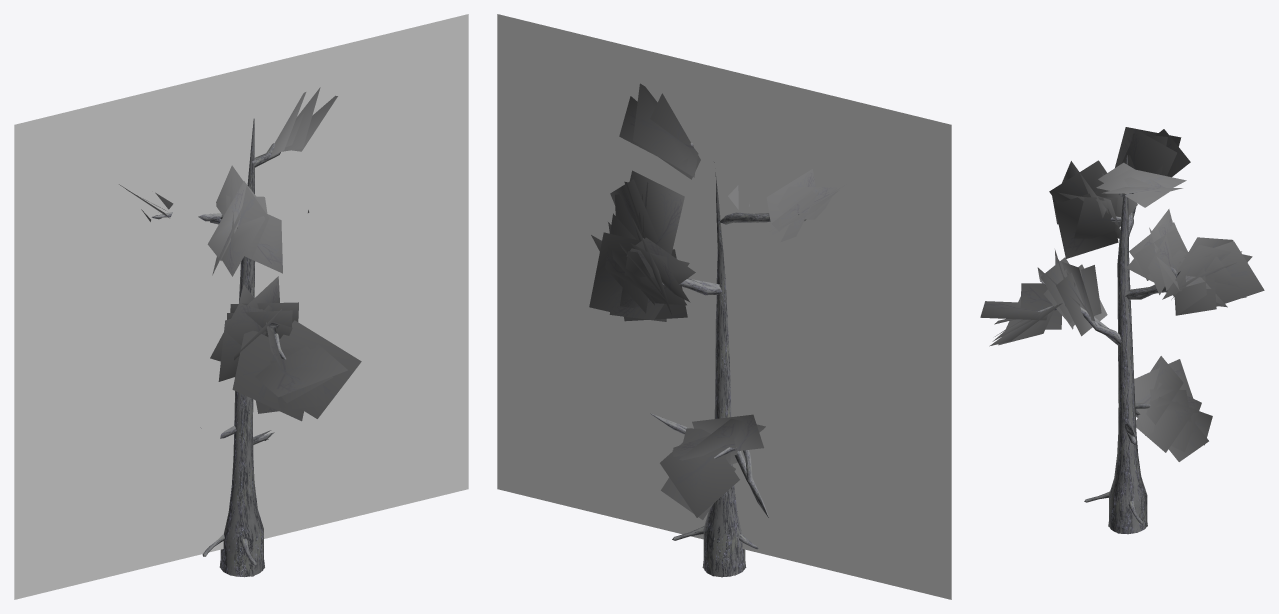
File: corrompu_jeune_a.fbx
3 renders of one model, left to right at view 1: azimuth 30°, elevation 25°; view 2: azimuth 150°, elevation 25°; view 3: azimuth 270°, elevation 25°, orthographic. The views are drawn at different scales.
Visible parts, largest first — view 1: corrompu_jeune_a_LOD3, corrompu_jeune_a_LOD1, corrompu_jeune_a_LOD2; view 2: corrompu_jeune_a_LOD3, corrompu_jeune_a_LOD1, corrompu_jeune_a_LOD2; view 3: corrompu_jeune_a_LOD1, corrompu_jeune_a_LOD2.
Boxes of the visible parts, x1,y1,x2,y2 form: corrompu_jeune_a_LOD3: (14,14,468,599); corrompu_jeune_a_LOD1: (119,87,361,577); corrompu_jeune_a_LOD2: (152,120,285,576); corrompu_jeune_a_LOD3: (497,14,951,599); corrompu_jeune_a_LOD1: (589,83,844,577); corrompu_jeune_a_LOD2: (652,143,770,576); corrompu_jeune_a_LOD1: (980,127,1264,534); corrompu_jeune_a_LOD2: (1037,157,1177,533).
Size of what is drawn, in the model's own units: 4.44 by 4.66 by 2.87.
